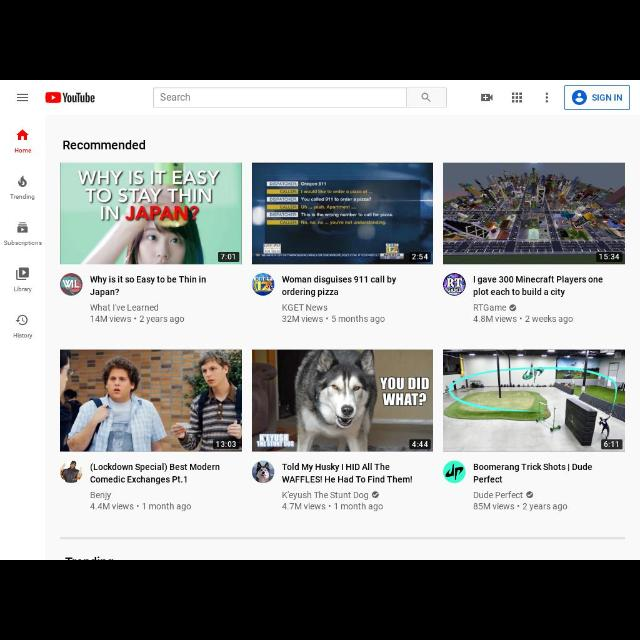button: (408, 88, 446, 108)
icon: (15, 267, 30, 281), (511, 92, 524, 105), (16, 314, 28, 326), (480, 93, 494, 103), (16, 93, 28, 103), (16, 130, 28, 140), (17, 222, 27, 234), (18, 177, 28, 187), (420, 93, 432, 101), (544, 92, 550, 104), (509, 304, 516, 314), (528, 492, 532, 500)
image: (444, 163, 626, 265), (59, 349, 241, 451), (253, 162, 433, 264), (253, 349, 433, 451), (60, 162, 242, 262), (443, 350, 622, 450), (45, 90, 95, 106), (572, 90, 586, 104)
input: (154, 88, 406, 106)
text: (472, 276, 602, 298), (90, 462, 220, 484), (283, 463, 413, 485), (473, 463, 592, 485), (89, 274, 207, 296), (282, 274, 396, 296), (62, 138, 148, 152), (282, 492, 370, 501), (524, 314, 574, 326), (522, 502, 568, 514), (91, 305, 159, 313), (332, 501, 386, 511), (331, 314, 384, 324), (140, 314, 184, 324), (474, 314, 518, 324), (474, 490, 522, 498), (470, 302, 508, 312), (282, 503, 326, 511), (143, 504, 193, 511), (281, 315, 323, 323), (473, 502, 513, 510), (90, 504, 134, 511), (92, 315, 130, 323), (161, 92, 191, 102), (282, 304, 328, 310), (3, 240, 41, 247), (592, 94, 622, 102), (12, 284, 32, 294), (11, 194, 35, 202), (90, 491, 112, 499), (12, 332, 32, 340), (14, 148, 32, 154)
textbutton: (566, 86, 630, 110)
toolbar: (1, 80, 639, 114)
